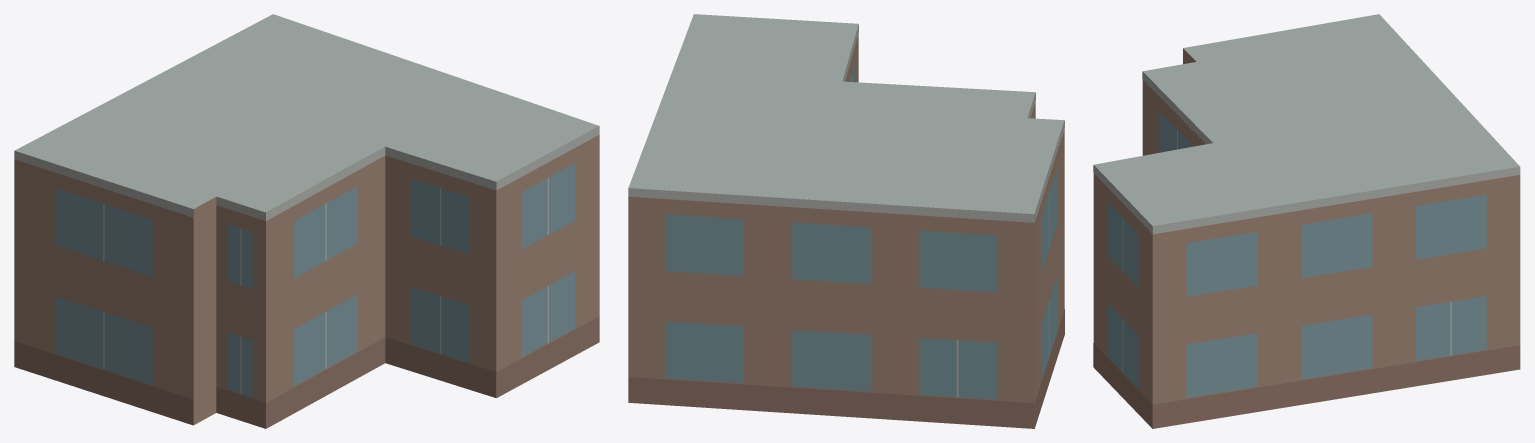
Rendered from survey-upis-33008436.glb.
3 renders of one model, left to right at view 1: azimuth 30°, elevation 25°; view 2: azimuth 150°, elevation 25°; view 3: azimuth 270°, elevation 25°, orthographic. The views are drawn at different scales.
Visible parts, largest first — view 1: survey-upis-33008436.tmp; view 2: survey-upis-33008436.tmp; view 3: survey-upis-33008436.tmp.
Part boxes in pixels (box(x1,y1,x2,y2)): survey-upis-33008436.tmp: box(14, 14, 599, 428); survey-upis-33008436.tmp: box(628, 14, 1064, 428); survey-upis-33008436.tmp: box(1093, 14, 1520, 428).
Size of the model in its own units: 13.71 by 6.1 by 11.66.
